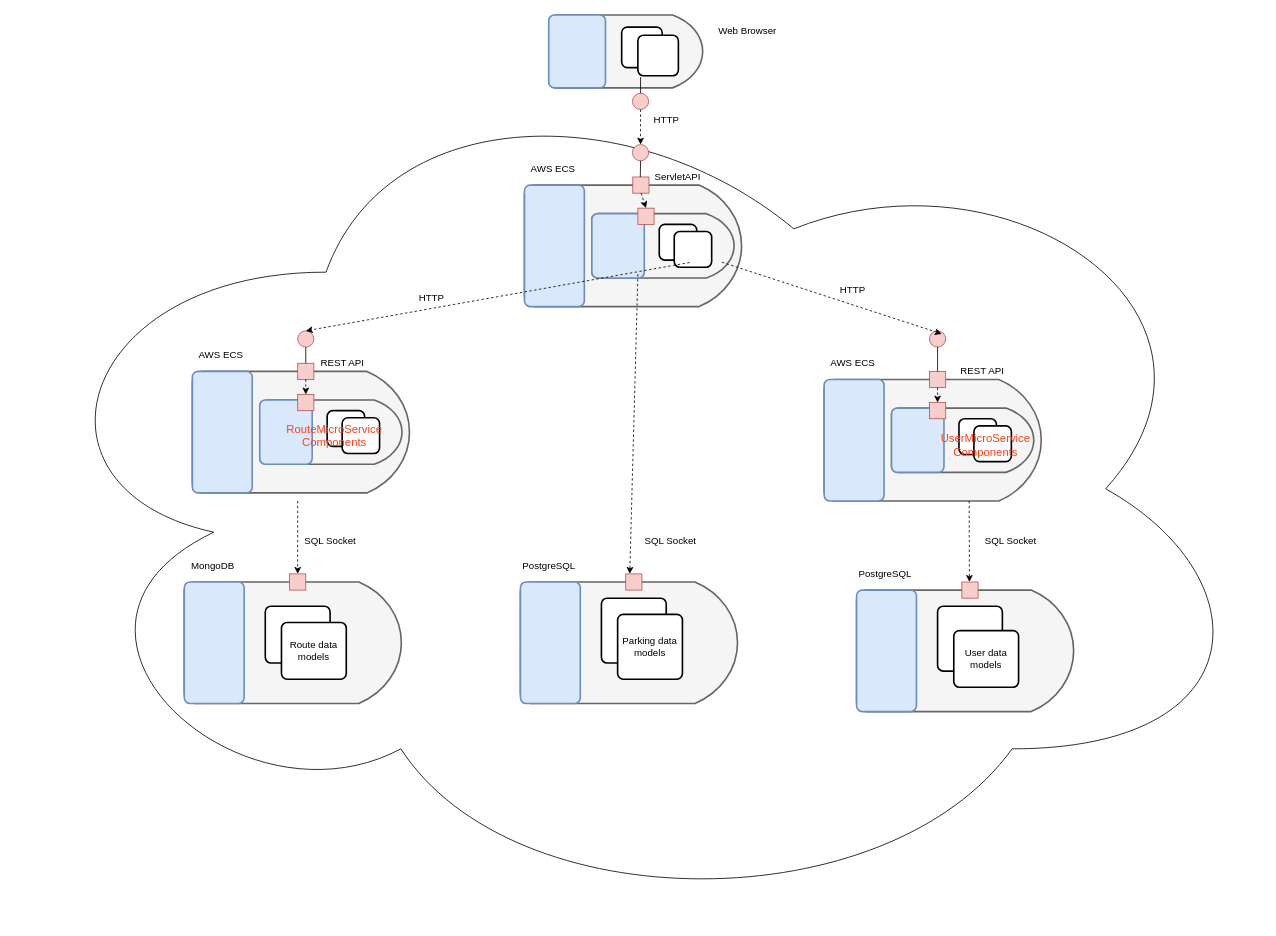
This 1276x936 diagram has some shape labels left out. Here are the shapes that lost their labels. From the top down, the centre of each, then its label:
At (x=658, y=55): "App components".
At (x=692, y=249): "WebApp Components".
